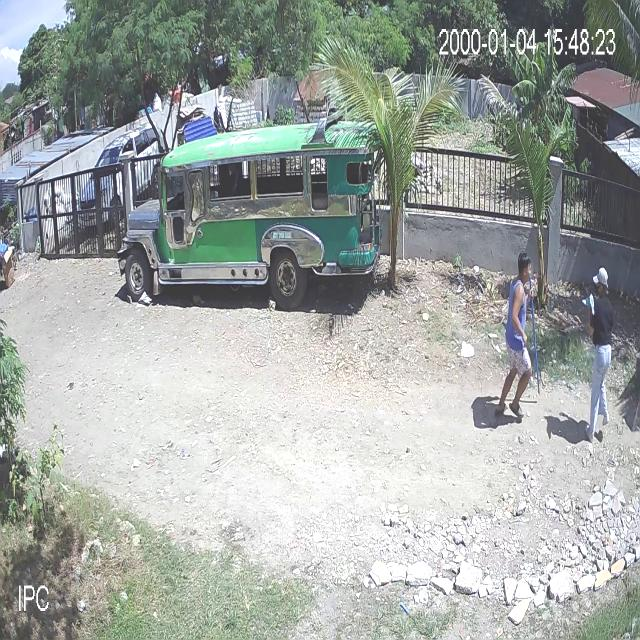running: (494, 250, 540, 424), (582, 266, 611, 440)
